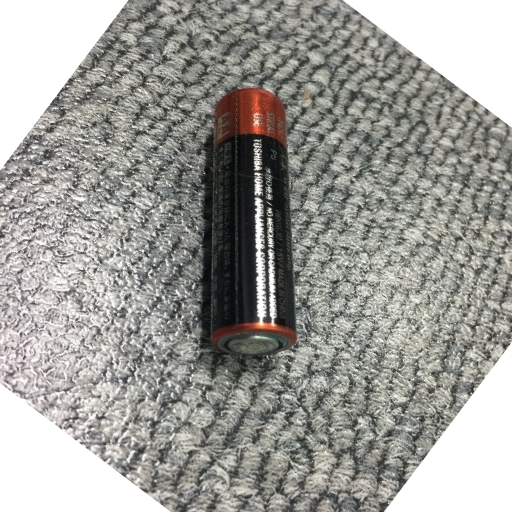Battery_0: (195, 72, 307, 375)
